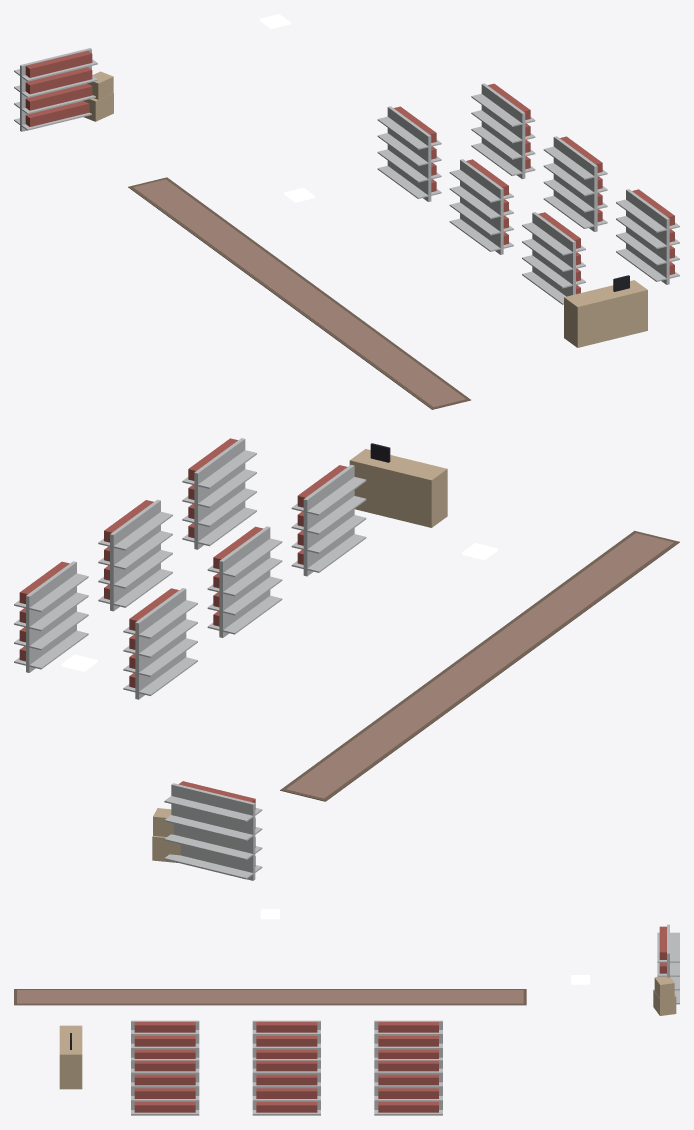
File: fine-s0.glb
The picture shows the model from 3 angles, top to bottom: view 1: azimuth 30°, elevation 25°; view 2: azimuth 150°, elevation 25°; view 3: azimuth 270°, elevation 25°; orthographic projection. The views are drawn at different scales.
Visible parts, largest first — view 1: soft-s0, shelving.000, shop-counter.000, shelf.003, shelf.000, shelf.004, shelf.001, shelf.005, shelf.002, cardboard-box.000; view 2: soft-s0, shelving.000, shop-counter.000, shelf.001, shelf.000, shelf.002, shelf.003, shelf.005, shelf.004, cardboard-box.000; view 3: soft-s0, shelf.003, shelf.004, shelf.005, shelf.000, shelf.001, shelf.002, shop-counter.000, shelving.000, cardboard-box.000.
Boxes of the visible parts, x1,y1,x2,y2 form: soft-s0: (128, 177, 470, 409); shelving.000: (14, 48, 97, 131); shop-counter.000: (564, 275, 647, 347); shelf.003: (471, 83, 535, 179); shelf.000: (377, 106, 441, 201); shelf.004: (543, 136, 607, 231); shelf.001: (449, 159, 513, 254); shelf.005: (616, 189, 679, 284); shelf.002: (522, 212, 585, 304); cardboard-box.000: (83, 71, 113, 121); soft-s0: (280, 530, 679, 801); shelving.000: (164, 781, 262, 880); shop-counter.000: (349, 443, 447, 527); shelf.001: (207, 526, 282, 637); shelf.000: (123, 588, 197, 699); shelf.002: (291, 465, 366, 576); shelf.003: (14, 561, 88, 672); shelf.005: (182, 438, 256, 549); shelf.004: (98, 499, 172, 611); cardboard-box.000: (152, 808, 180, 862); soft-s0: (14, 989, 526, 1005); shelf.003: (374, 1059, 442, 1115); shelf.004: (252, 1059, 320, 1115); shelf.005: (131, 1059, 199, 1115); shelf.000: (374, 1020, 442, 1058); shelf.001: (252, 1020, 320, 1058); shelf.002: (131, 1020, 199, 1058); shop-counter.000: (59, 1025, 82, 1089); shelving.000: (657, 924, 679, 1004); cardboard-box.000: (653, 976, 676, 1015).
Size of the model in its own units: 8.7 by 2.44 by 17.5.
